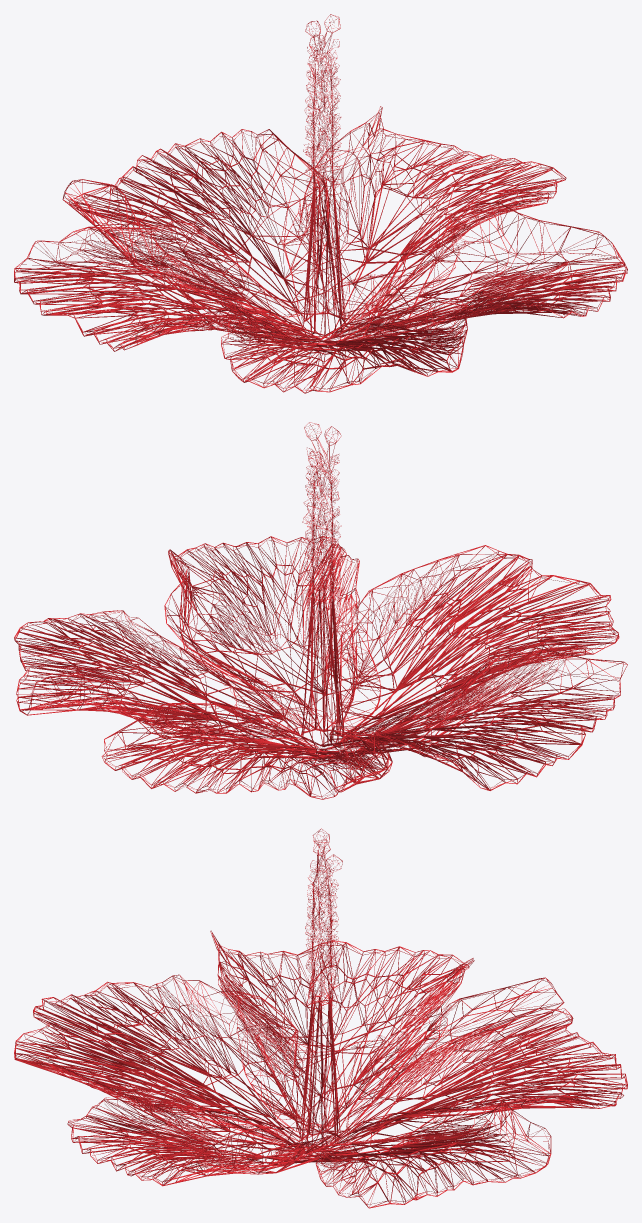
Rendered from 25ArtFlor_hibisco_008_decimate_wireframe.glb.
3 views of the same model, one above another, from view 1: azimuth 30°, elevation 25°; view 2: azimuth 150°, elevation 25°; view 3: azimuth 270°, elevation 25° (orthographic). The views are drawn at different scales.
Visible parts, largest first — view 1: 1782502358887 hibiscus; view 2: 1782502358887 hibiscus; view 3: 1782502358887 hibiscus.
Boxes of the visible parts, left/top/right/bottom form: 1782502358887 hibiscus: left=14, top=14, right=627, bottom=393; 1782502358887 hibiscus: left=14, top=422, right=627, bottom=799; 1782502358887 hibiscus: left=14, top=828, right=627, bottom=1208.
Size of the model in its own units: 4.86 by 2.81 by 4.86.
